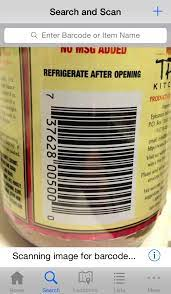Barcode: (48, 103, 138, 217)
